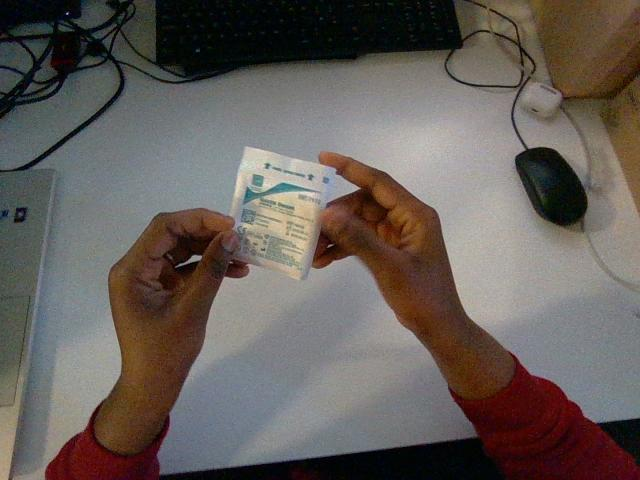gauze: (231, 147, 334, 278)
